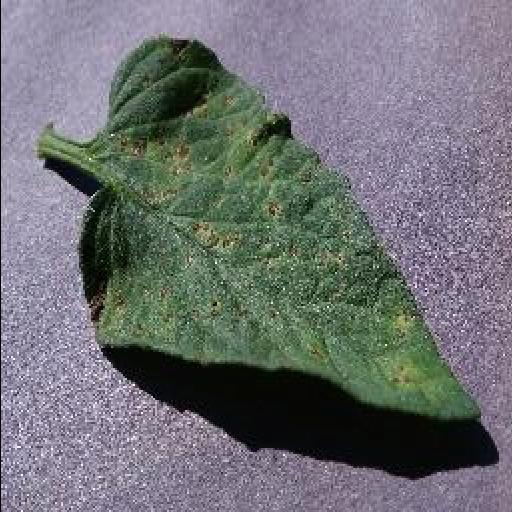disease_tomato: (78, 34, 486, 419)
